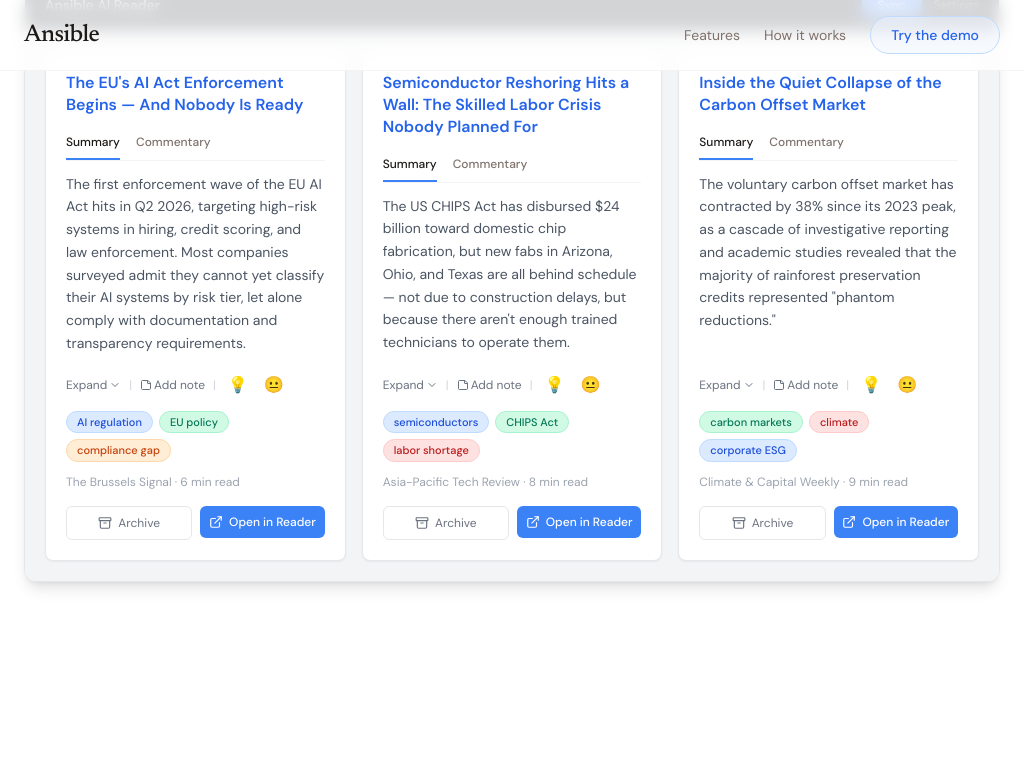
Test: LandingPage › Preview card interactions › switches to commentary, shows a teaser, and resets expansion on tab change
(page scrolled)
Click the 1st button "Expand": click(94, 384) left=66, top=376, right=121, bottom=392
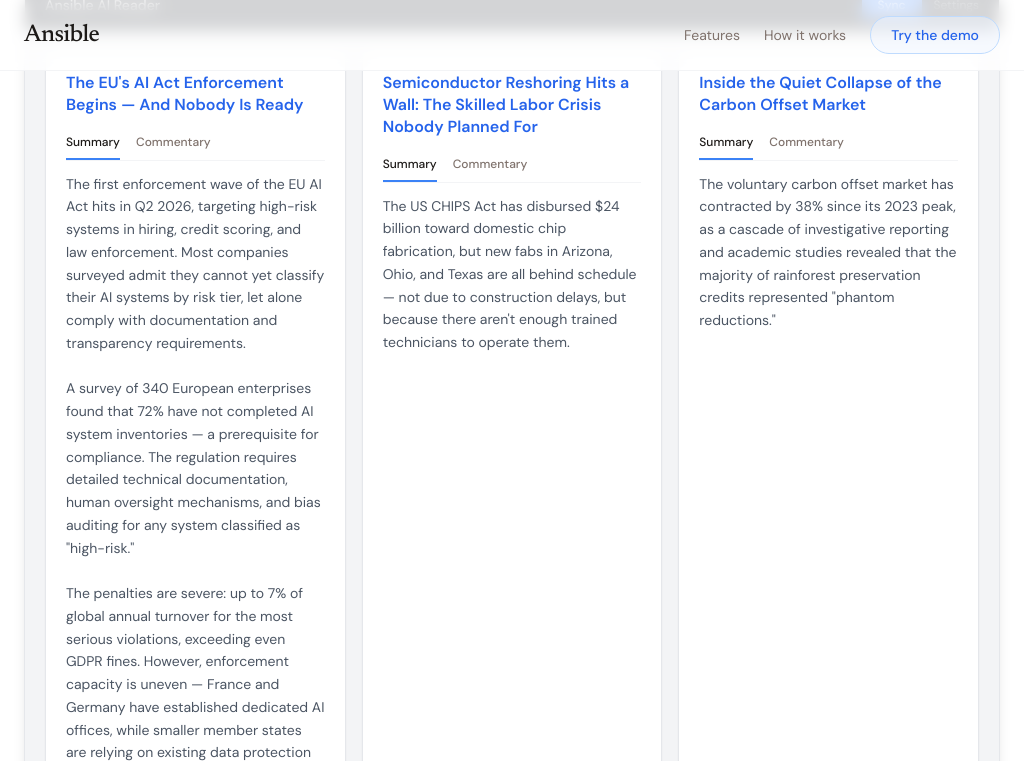
Click the 1st tab "Commentary": click(173, 144) left=136, top=128, right=211, bottom=160
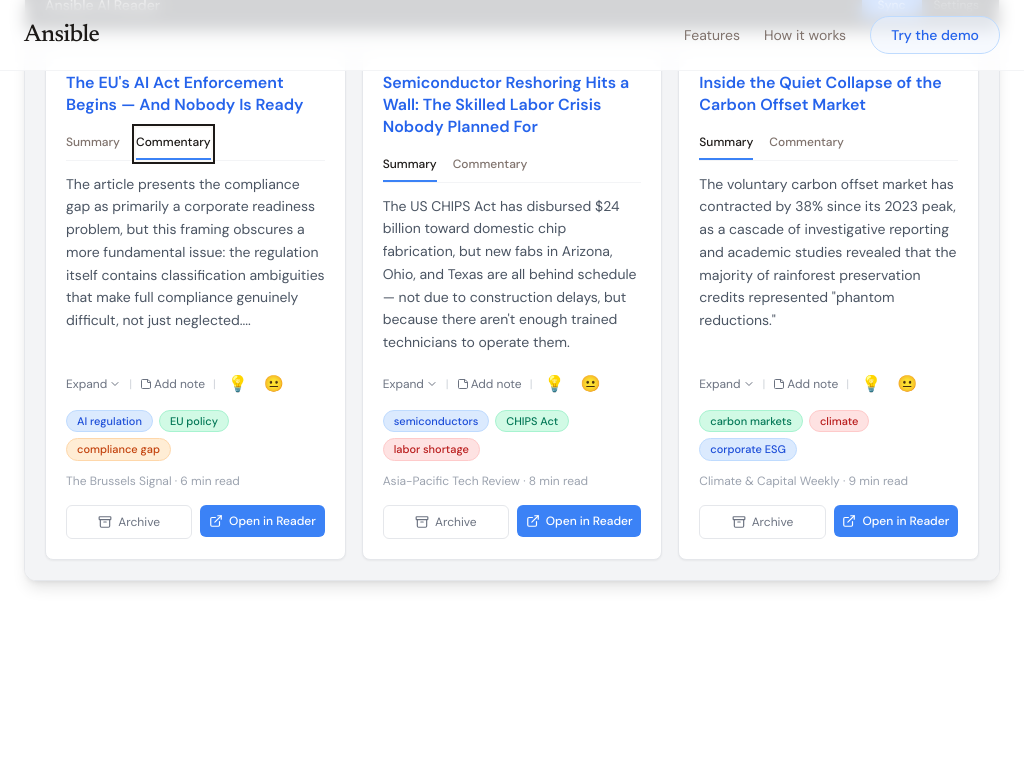
Click the 1st button "Expand": click(94, 384) left=66, top=376, right=121, bottom=392
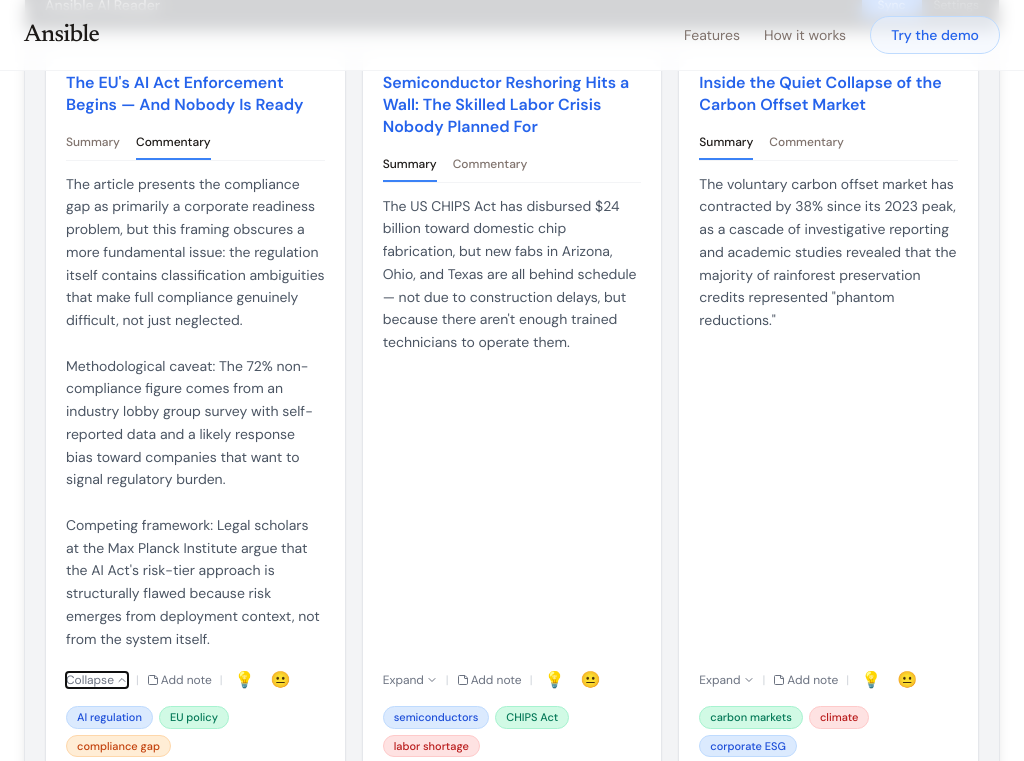
expect the text "Methodological caveat" is shown: met, box left=66, top=174, right=325, bottom=648
